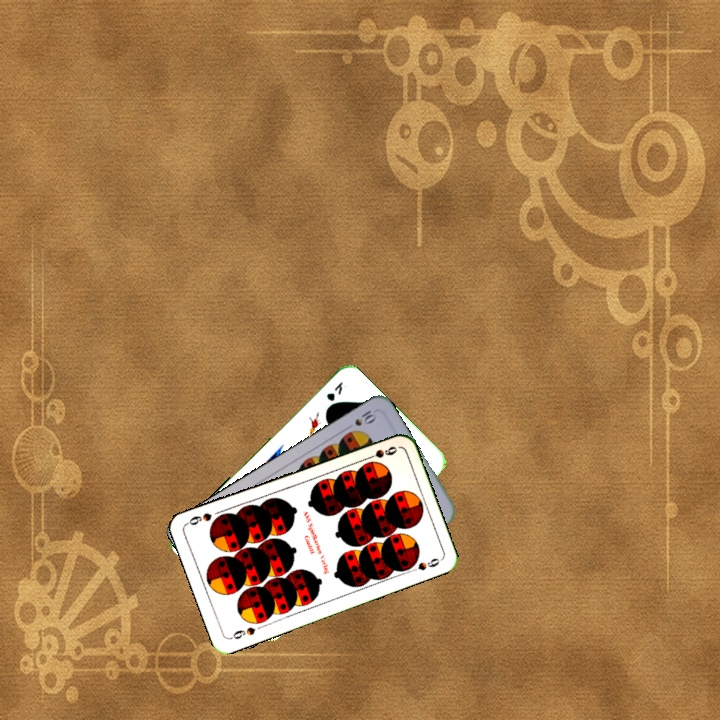GK: (322, 378, 345, 404)
S10: (341, 405, 380, 432)
S9: (360, 442, 400, 463), (226, 623, 258, 642)
